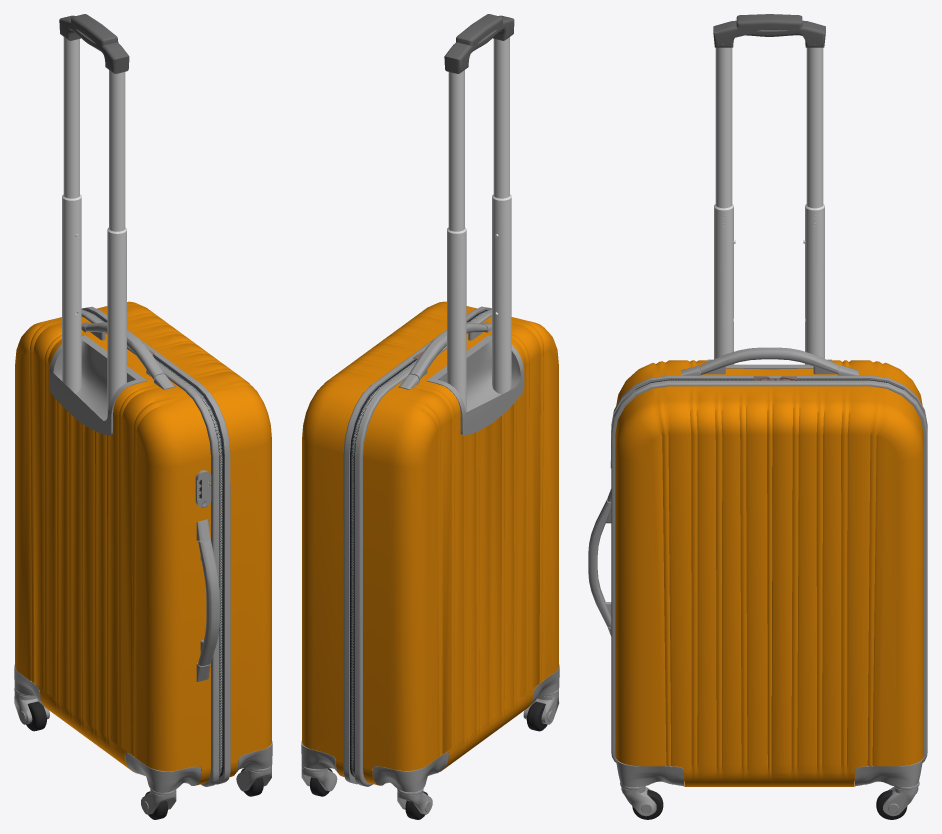
Rendered from trolley.fbx.
The picture shows the model from 3 angles, left to right: view 1: azimuth 30°, elevation 25°; view 2: azimuth 150°, elevation 25°; view 3: azimuth 270°, elevation 25°; orthographic projection.
Parts seen in each view (by area): view 1: Kase, Truba02, Truba01, Vstavka, Plane.001, Ruchka.002, Plane.004, Ruchka.001, Cylinder.003, Cube; view 2: Kase, Truba02, Truba01, Vstavka, Plane.001, Plane.004, Ruchka.001, Cylinder.003; view 3: Kase, Truba02, Truba01, Plane.001, Ruchka.001, Ruchka.002, Plane.004, Cylinder.003.
Part boxes in pixels (box(x1,y1,x2,y2)): Kase: box(15, 301, 271, 786); Truba02: box(59, 14, 129, 231); Truba01: box(62, 194, 126, 416); Vstavka: box(49, 335, 146, 435); Plane.001: box(14, 664, 272, 792); Ruchka.002: box(196, 519, 220, 681); Plane.004: box(14, 688, 271, 814); Ruchka.001: box(81, 322, 175, 389); Cylinder.003: box(26, 701, 263, 819); Cube: box(195, 470, 211, 507); Kase: box(302, 301, 558, 786); Truba02: box(444, 14, 514, 231); Truba01: box(447, 194, 511, 412); Vstavka: box(426, 335, 524, 435); Plane.001: box(301, 664, 559, 792); Plane.004: box(301, 689, 559, 814); Ruchka.001: box(398, 322, 491, 389); Cylinder.003: box(310, 701, 547, 819); Kase: box(611, 360, 927, 786); Truba02: box(713, 14, 825, 208); Truba01: box(714, 204, 824, 364); Plane.001: box(615, 757, 923, 787); Ruchka.001: box(681, 347, 858, 375); Ruchka.002: box(588, 489, 611, 636); Plane.004: box(620, 781, 919, 816); Cylinder.003: box(632, 790, 907, 819).
Bounding box in the file's own units: 246 × 1418 × 579.
Materials: 7 (1 with a texture image).
